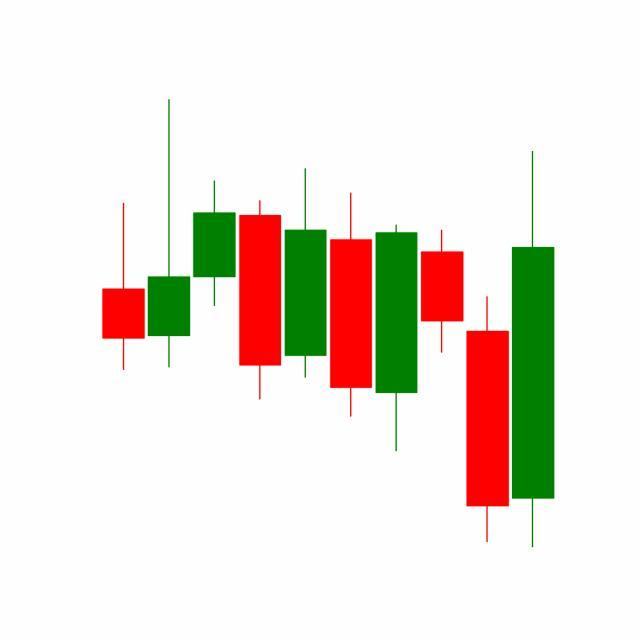Hikkake Pattern: (283, 165, 512, 547)
